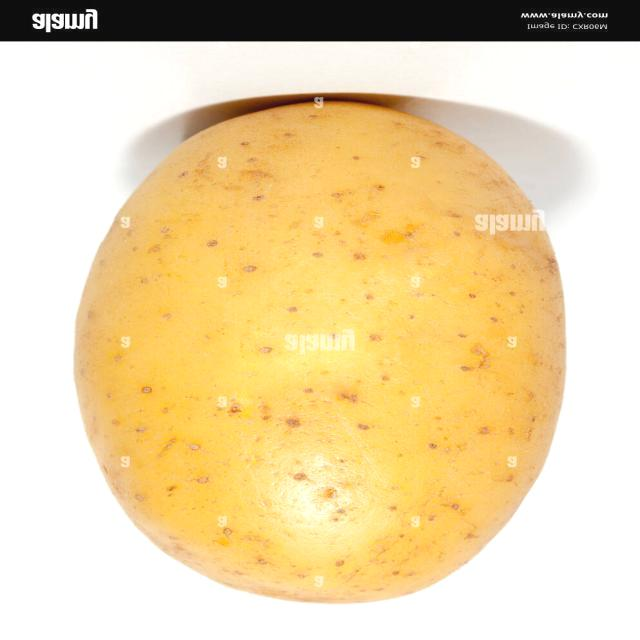potato: (76, 99, 569, 605)
